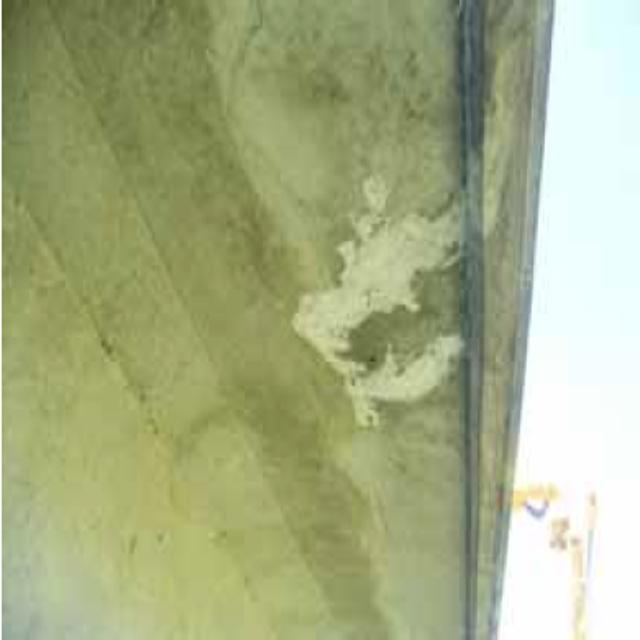freelime: (279, 140, 480, 413)
